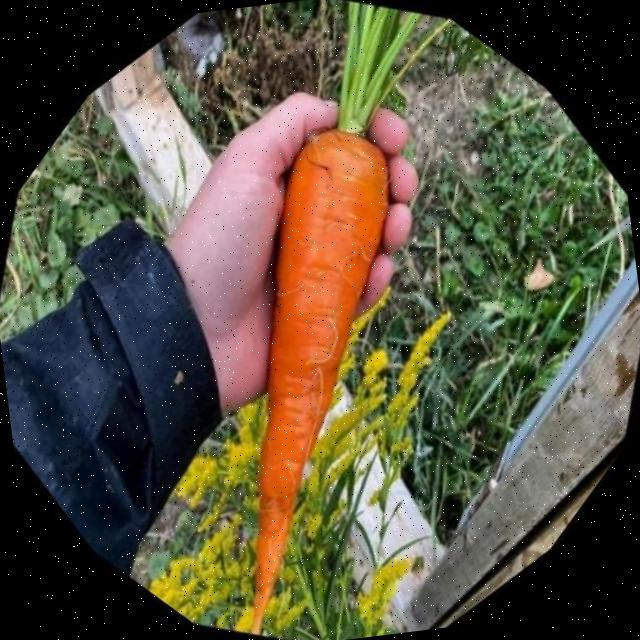carrot: (252, 129, 388, 632)
